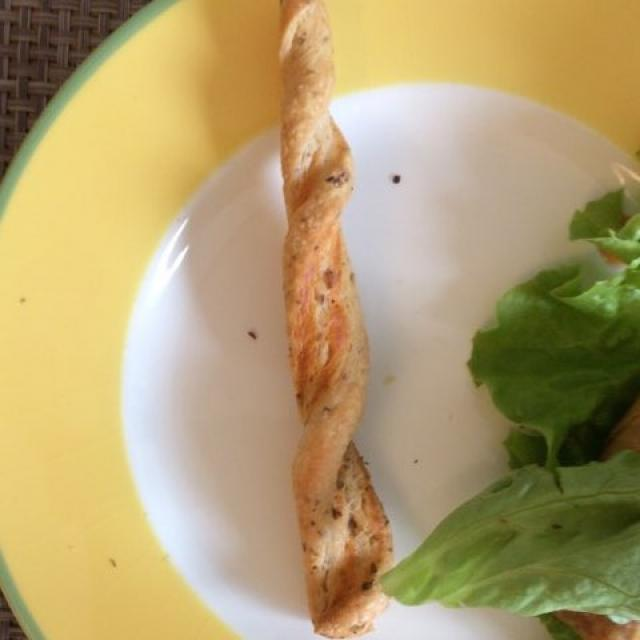salad-leaf-salad-green: (398, 191, 637, 622)
savoury-puff-pastry-stick: (281, 37, 387, 618)
